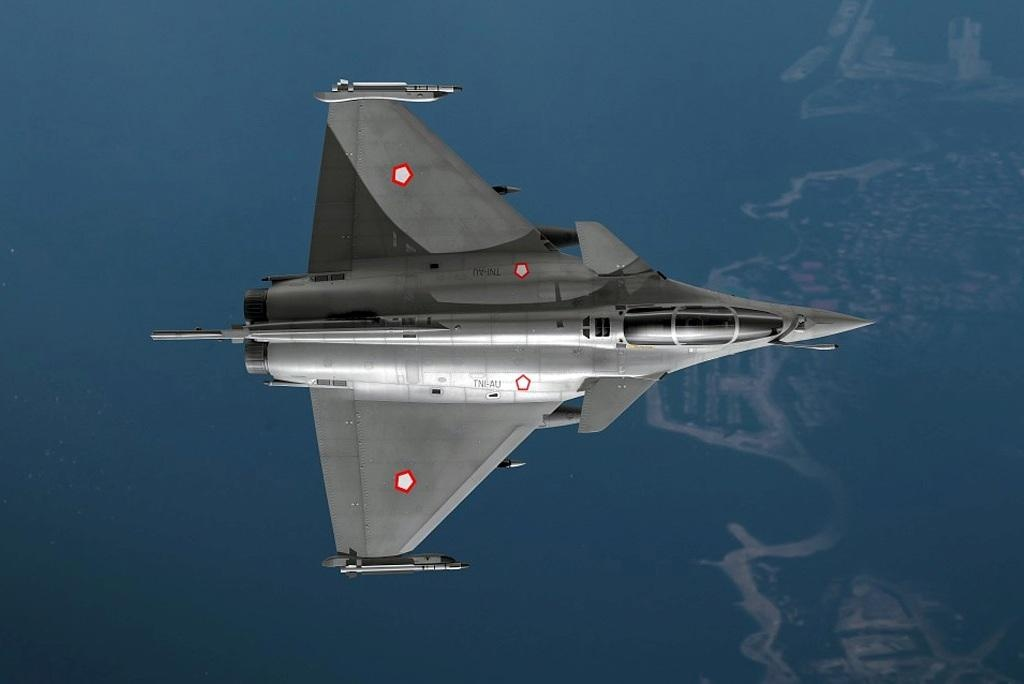aircraft: (150, 81, 882, 572)
